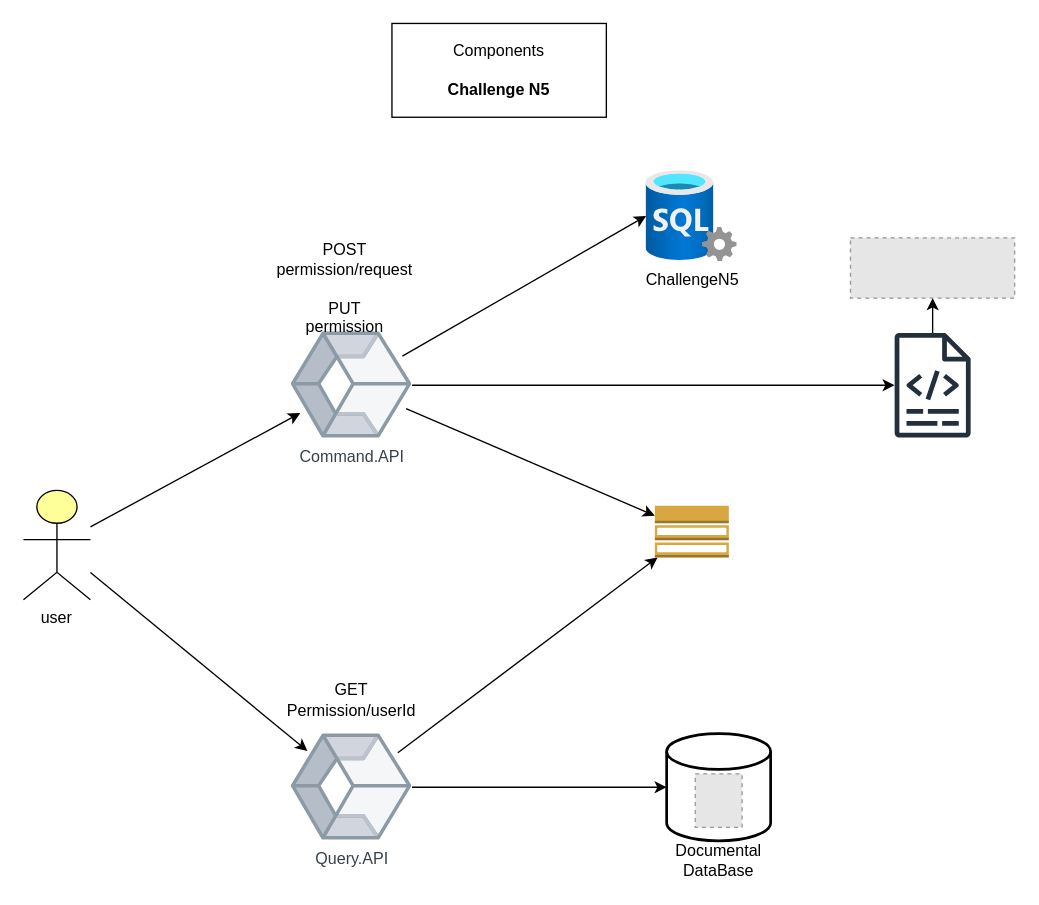
Some shapes in this 1039 by 905 pixel diagram are drawn without their labels. Grey dashed boxes stand in for pictures. Each missing label, with the centre of its shape:
permission-topic Kafka: [691,531]
Serilog: [932,384]
